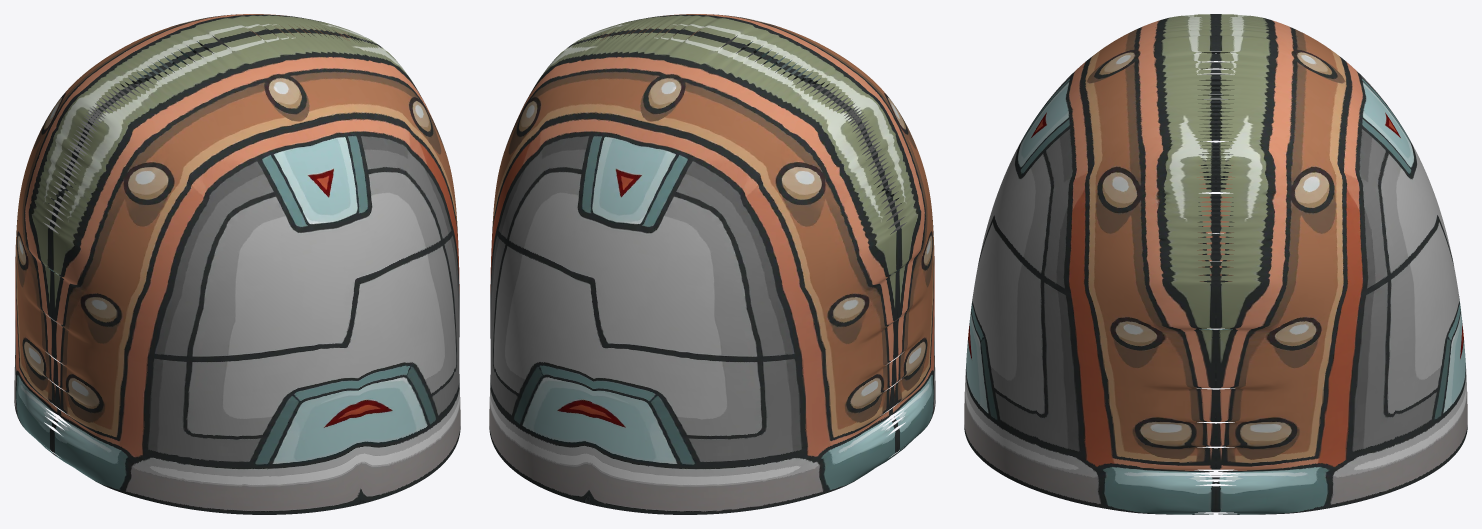
The model's file is west_door.glb.
3 renders of one model, left to right at view 1: azimuth 30°, elevation 25°; view 2: azimuth 150°, elevation 25°; view 3: azimuth 270°, elevation 25°, orthographic.
Visible parts, largest first — view 1: west_door; view 2: west_door; view 3: west_door.
Part boxes in pixels (x1,y1,x2,y2): west_door: (14, 14, 460, 514); west_door: (489, 14, 935, 514); west_door: (964, 14, 1467, 514).
Bounding box in the file's own units: 0.9889 × 0.9534 × 1.14.
Materials: 1 (1 with a texture image).
